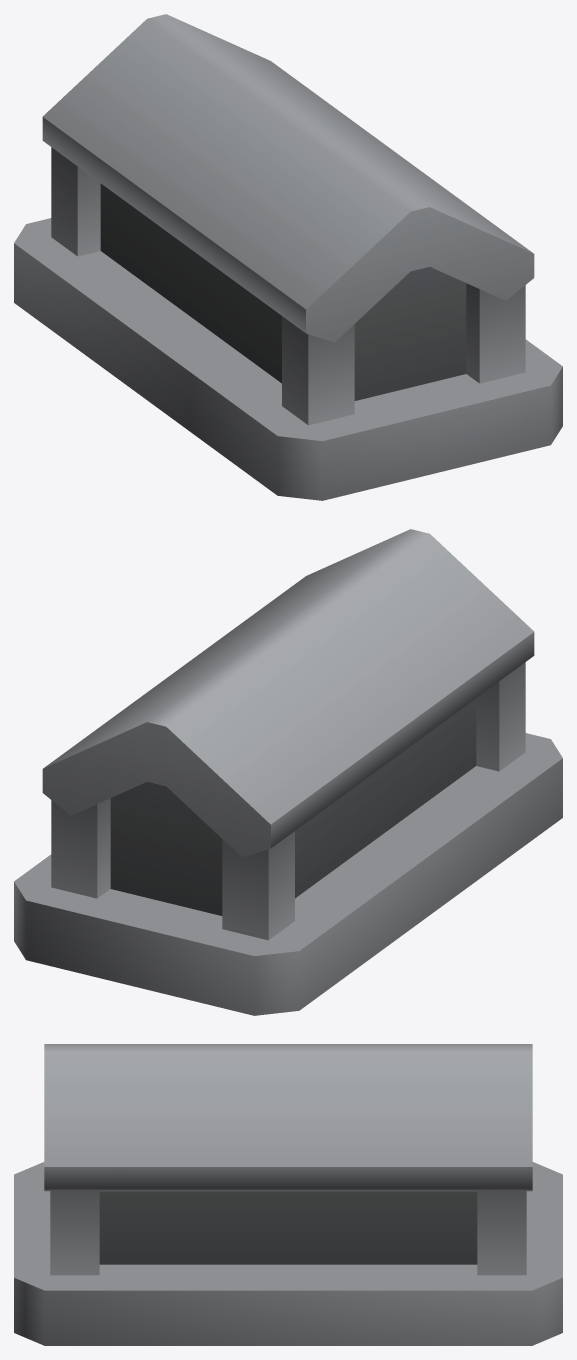
File: crypt-b.glb
3 renders of one model, top to bottom at view 1: azimuth 30°, elevation 25°; view 2: azimuth 150°, elevation 25°; view 3: azimuth 270°, elevation 25°, orthographic. The views are drawn at different scales.
Visible parts, largest first — view 1: crypt-b; view 2: crypt-b; view 3: crypt-b.
Boxes of the visible parts, x1,y1,x2,y2 form: crypt-b: (14, 14, 562, 500); crypt-b: (14, 529, 562, 1015); crypt-b: (14, 1044, 562, 1345).
Size of the model in its own units: 1.49 by 1.25 by 2.68.
Materials: 1 (1 with a texture image).
